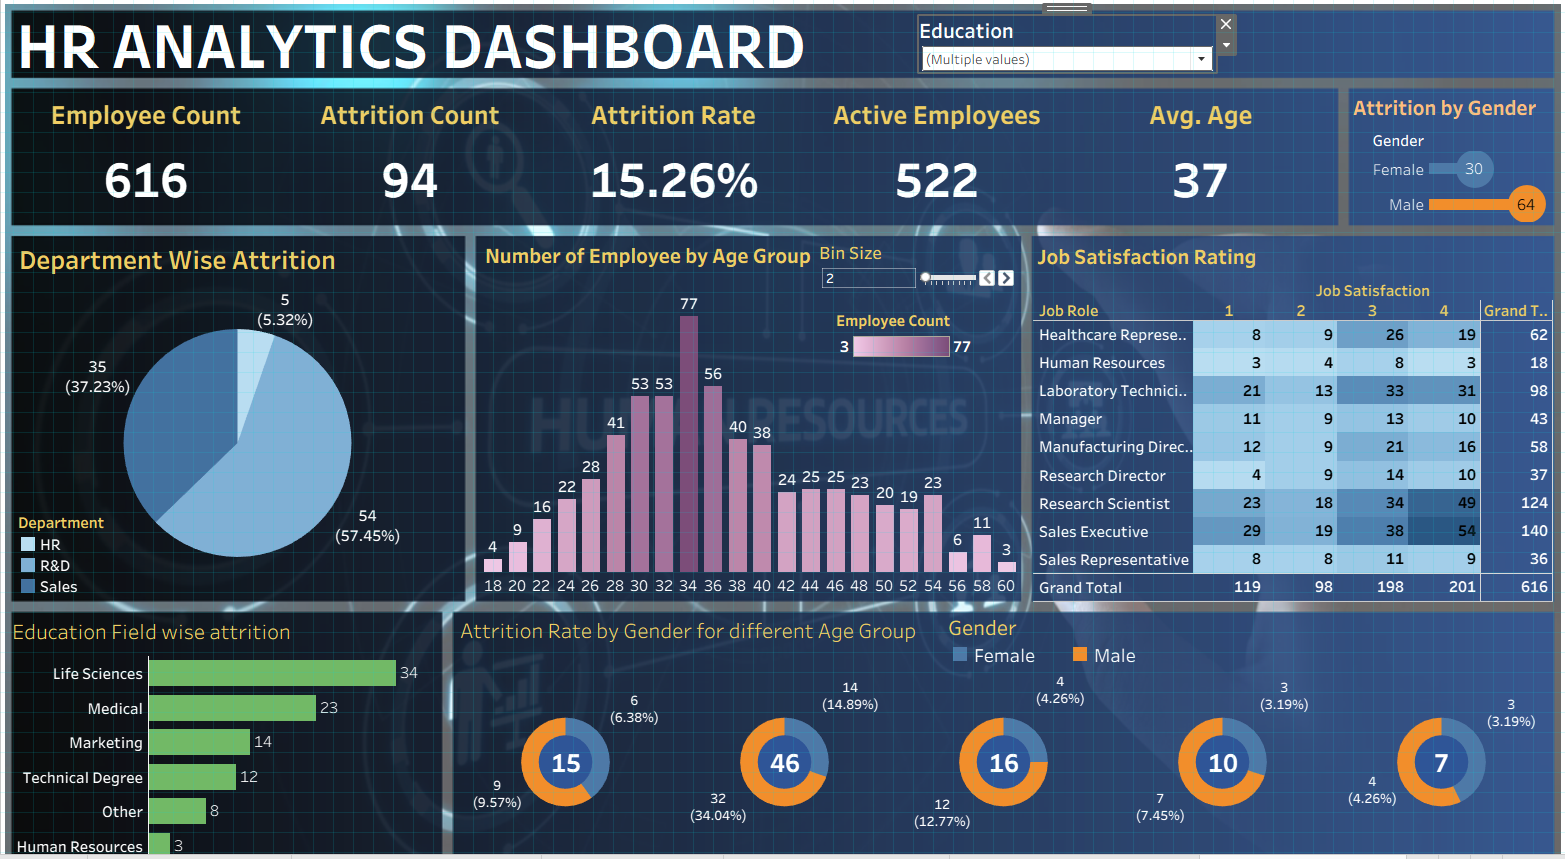

Layout of this report page (visuals, bound fields, positions):
{"tool":"tableau","page":{"name":"HR Analytics Dashboard","canvas":[1580,900],"ordinal":0},"visuals":[{"type":"image","param":"Image/HR background.pptx.png","box":[8,8,1564,884]},{"type":"text","box":[20,19,1164,64]},{"type":"filter","title":"Attrition Rate by Gender for different Age Group","param":"[federated.0q0dtuk1jc0q4k0zjhktl0chvs8b].[none:Education:nk]","box":[926,24,297,56]},{"type":"worksheet","title":"Attrition by Gender","mark":"Automatic","rows":["Gender"],"cols":["Calculation_1229811327258624","Calculation_1229811327258624"],"box":[1356,97,202,133]},{"type":"worksheet","title":"KPI","mark":"Automatic","box":[21,99,1319,133]},{"type":"worksheet","title":"Number of Employee by Age Group ","mark":"Automatic","rows":["Employee Count"],"cols":["Age (bin)"],"box":[488,245,538,360]},{"type":"worksheet","title":"Department Wise Attrition","mark":"Pie","box":[22,246,445,361]},{"type":"worksheet","title":"Job Satisfaction rating ","mark":"Square","rows":["Job Role"],"cols":["Job Satisfaction"],"box":[1040,246,520,364]},{"type":"parameter","param":"[Parameters].[Parameter 1]","box":[826,248,198,64]},{"type":"legend","title":"Number of Employee by Age Group ","param":"[federated.0q0dtuk1jc0q4k0zjhktl0chvs8b].[sum:Employee Count:qk]","box":[843,318,140,88]},{"type":"legend","title":"Department Wise Attrition","param":"[federated.0q0dtuk1jc0q4k0zjhktl0chvs8b].[none:Department:nk]","box":[25,520,140,85]},{"type":"worksheet","title":"Attrition Rate by Gender for different Age Group","mark":"Pie","rows":["Calculation_1229811394736132","Calculation_1229811394736132"],"cols":["CF_age band"],"box":[463,620,1095,282]},{"type":"worksheet","title":"Education Field wise Attrition","mark":"Automatic","rows":["Education Field"],"cols":["Calculation_1229811327258624"],"box":[15,621,432,250]},{"type":"legend","title":"Attrition Rate by Gender for different Age Group","param":"[federated.0q0dtuk1jc0q4k0zjhktl0chvs8b].[none:Gender:nk]","box":[955,621,598,58]}]}

Visuals, with their boxes in screenshot pixels (x1, y1, x2, y2):
image: detection(0, 0, 1528, 855)
text: detection(11, 2, 1149, 65)
"Attrition Rate by Gender for different Age Group" filter: detection(896, 7, 1187, 62)
"Attrition by Gender" worksheet: detection(1317, 78, 1514, 208)
"KPI" worksheet: detection(12, 80, 1301, 210)
"Number of Employee by Age Group " worksheet: detection(469, 223, 994, 575)
"Department Wise Attrition" worksheet (Pie marks): detection(13, 224, 448, 577)
"Job Satisfaction rating " worksheet (Square marks): detection(1008, 224, 1516, 580)
parameter: detection(799, 226, 992, 288)
"Number of Employee by Age Group " legend: detection(815, 294, 952, 380)
"Department Wise Attrition" legend: detection(16, 492, 153, 575)
"Attrition Rate by Gender for different Age Group" worksheet (Pie marks): detection(444, 589, 1514, 858)
"Education Field wise Attrition" worksheet: detection(7, 590, 429, 835)
"Attrition Rate by Gender for different Age Group" legend: detection(925, 590, 1509, 647)
